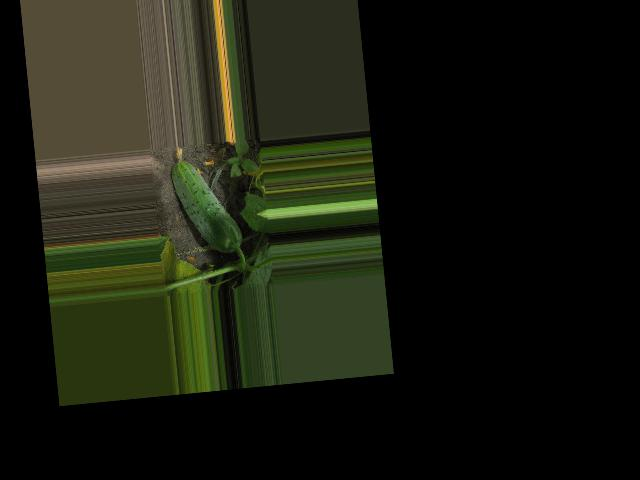cucumber: (168, 141, 243, 257)
